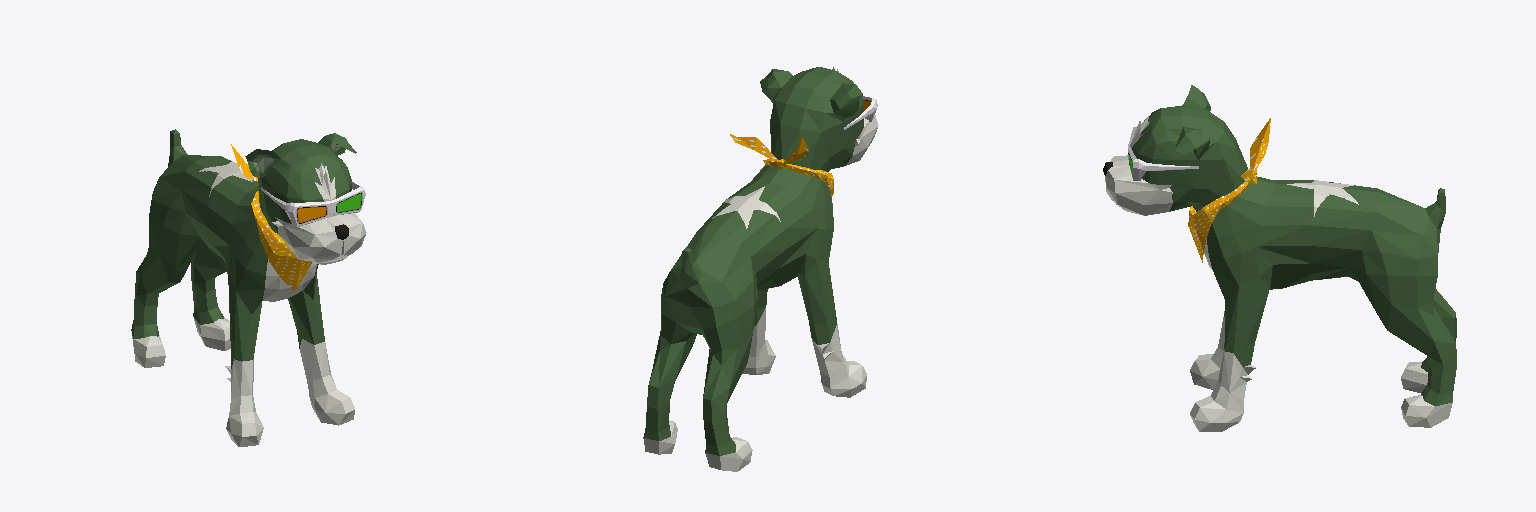
3 views of the same model, side by side, from view 1: azimuth 30°, elevation 25°; view 2: azimuth 150°, elevation 25°; view 3: azimuth 270°, elevation 25° (orthographic).
Parts seen in each view (by area): view 1: StgObj00_MDLB_871488_P18; view 2: StgObj00_MDLB_871488_P18; view 3: StgObj00_MDLB_871488_P18.
Part boxes in pixels (left/top/right/bottom): StgObj00_MDLB_871488_P18: left=131, top=129, right=366, bottom=446; StgObj00_MDLB_871488_P18: left=643, top=67, right=878, bottom=471; StgObj00_MDLB_871488_P18: left=1103, top=85, right=1456, bottom=431.
Size of the model in its own units: 2.68 by 6.45 by 6.9.
Materials: 1 (1 with a texture image).